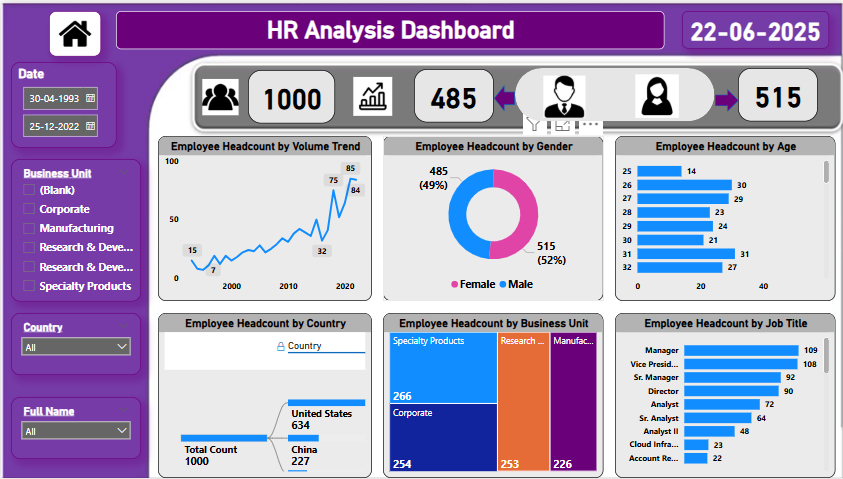

The dashboard page shown, as its layout file describes it:
{"tool":"powerbi","page":{"name":"HR Analysis","canvas":[1280,720],"ordinal":0},"visuals":[{"type":"card","fields":{"Values":["CountNonNull(Employee Data.Employee ID)"]},"box":[374.4,102.2,132.5,80.6],"z":0},{"type":"lineChart","title":"Employee Headcount by Volume Trend","fields":{"Category":["Employee Data.Hire Date.Variation.Date Hierarchy.Year"],"Y":["CountNonNull(Employee Data.Employee ID)"]},"box":[238.5,201.6,324.2,250.3],"z":1000},{"type":"donutChart","title":"Employee Headcount by Gender","fields":{"Category":["Employee Data.Gender"],"Y":["CountNonNull(Employee Data.Employee ID)"]},"box":[579.5,201.6,334.3,250.3],"z":2000},{"type":"clusteredBarChart","title":"Employee Headcount by Age","fields":{"Category":["Employee Data.Age"],"Y":["CountNonNull(Employee Data.Employee ID)"]},"box":[930.6,201.6,334.3,250.3],"z":3000},{"type":"decompositionTreeVisual","title":"Employee Headcount by Country","fields":{"Analyze":["CountNonNull(Employee Data.Country)"],"ExplainBy":["Employee Data.Country"]},"box":[238.5,470.3,324.2,250.3],"z":4000},{"type":"treemap","title":"Employee Headcount by Business Unit","fields":{"Group":["Employee Data.Business Unit"],"Values":["CountNonNull(Employee Data.Employee ID)"]},"box":[579.5,470.3,334.3,250.3],"z":5000},{"type":"clusteredBarChart","title":"Employee Headcount by Job Title","fields":{"Category":["Employee Data.Job Title"],"Y":["CountNonNull(Employee Data.Employee ID)"]},"box":[930.6,470.3,334.3,250.3],"z":6000},{"type":"image","box":[299.5,109.4,64.8,67.7],"z":7000},{"type":"shape","box":[779.4,99.1,302.4,80.6],"z":8000},{"type":"card","fields":{"Values":["Employee Data.Total_Male"]},"box":[626.4,99.4,121,80.6],"z":9000},{"type":"card","fields":{"Values":["Employee Data.Total_Female"]},"box":[1117.1,99.1,120.9,80.6],"z":10000},{"type":"image","box":[816.4,102.5,73.9,77.3],"z":11000},{"type":"image","box":[955.8,102.5,75.6,75.6],"z":12000},{"type":"image","box":[528.5,99.4,69.1,83.5],"z":13000},{"type":"slicer","fields":{"Values":["Employee Data.Business Unit"]},"box":[14.4,236.2,197.3,216],"z":14000},{"type":"slicer","fields":{"Values":["Employee Data.Country"]},"box":[15.1,470.3,196.5,94.1],"z":15000},{"type":"slicer","fields":{"Values":["Employee Data.Full Name"]},"box":[15.1,596.3,196.5,94.1],"z":16000},{"type":"slicer","title":"Date","fields":{"Values":["Employee Data.Hire Date"]},"box":[14.4,89.3,159.8,129.6],"z":17000},{"type":"textbox","title":"HR Analysis Dashboard","box":[174.2,11.5,830.9,57.6],"z":18000},{"type":"card","fields":{"Values":["Min(Query1.Date)"]},"box":[1031.4,11.8,223.4,57.1],"z":19000},{"type":"image","box":[73.4,11.5,79.2,69.1],"z":20000},{"type":"shape","box":[1081.4,129.6,36,34.6],"z":21000},{"type":"shape","box":[747.4,123.8,31.7,40.3],"z":22000}]}

Visuals, with their boxes in screenshot pixels (x1, y1, x2, y2), scaled from the page's 1280x720 canvas onto the 843x479 screenshot:
card - CountNonNull(Employee Data.Employee ID): (247,68,334,122)
"Employee Headcount by Volume Trend" lineChart: (157,134,371,301)
"Employee Headcount by Gender" donutChart: (382,134,602,301)
"Employee Headcount by Age" clusteredBarChart: (613,134,833,301)
"Employee Headcount by Country" decompositionTreeVisual: (157,313,371,478)
"Employee Headcount by Business Unit" treemap: (382,313,602,478)
"Employee Headcount by Job Title" clusteredBarChart: (613,313,833,478)
image: (197,73,240,118)
shape: (513,66,712,120)
card - Employee Data.Total_Male: (413,66,492,120)
card - Employee Data.Total_Female: (736,66,815,120)
image: (538,68,586,120)
image: (629,68,679,118)
image: (348,66,394,122)
slicer - Employee Data.Business Unit: (9,157,139,301)
slicer - Employee Data.Country: (10,313,139,375)
slicer - Employee Data.Full Name: (10,397,139,459)
"Date" slicer: (9,59,115,146)
"HR Analysis Dashboard" textbox: (115,8,662,46)
card - Min(Query1.Date): (679,8,826,46)
image: (48,8,101,54)
shape: (712,86,736,109)
shape: (492,82,513,109)
